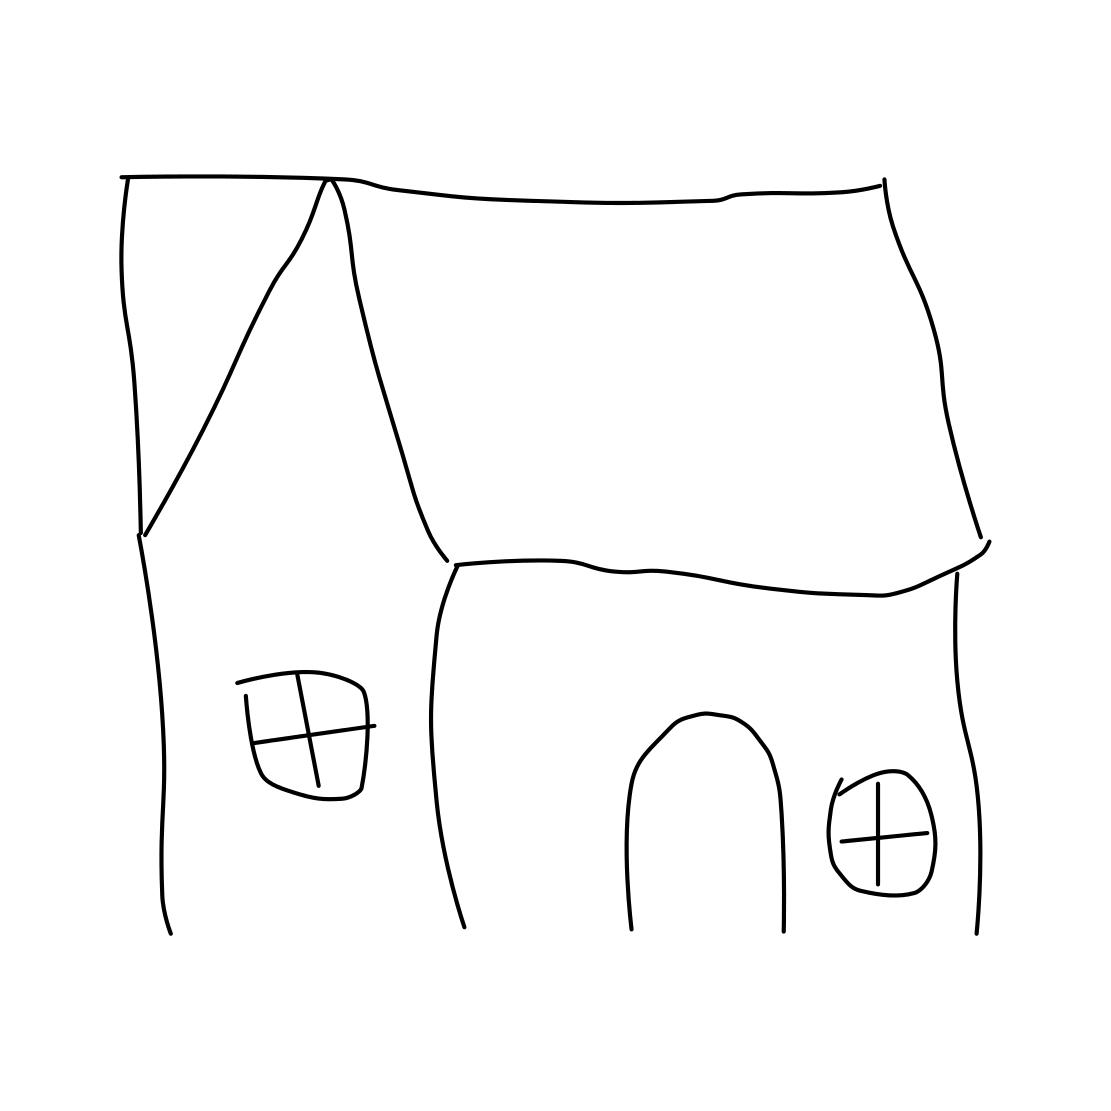House: (62, 121, 1038, 955)
